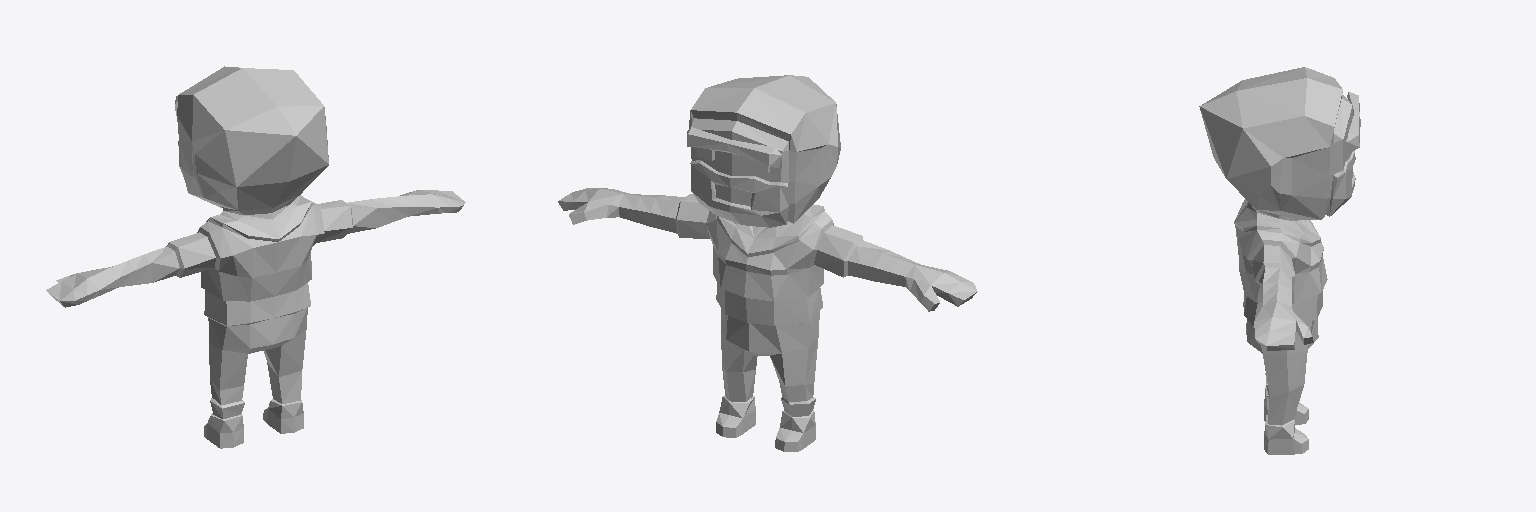
File: Chr_Adventure_Peasant_01_57.obj
3 views of the same model, side by side, from view 1: azimuth 30°, elevation 25°; view 2: azimuth 150°, elevation 25°; view 3: azimuth 270°, elevation 25° (orthographic).
Visible parts, largest first — view 1: Chr_Adventure_Peasant_01_57; view 2: Chr_Adventure_Peasant_01_57; view 3: Chr_Adventure_Peasant_01_57.
Part boxes in pixels (x1,y1,x2,y2): Chr_Adventure_Peasant_01_57: (46, 66, 465, 448); Chr_Adventure_Peasant_01_57: (558, 75, 977, 451); Chr_Adventure_Peasant_01_57: (1199, 67, 1360, 454).
Bounding box in the file's own units: 2.13 × 1.78 × 0.7331.